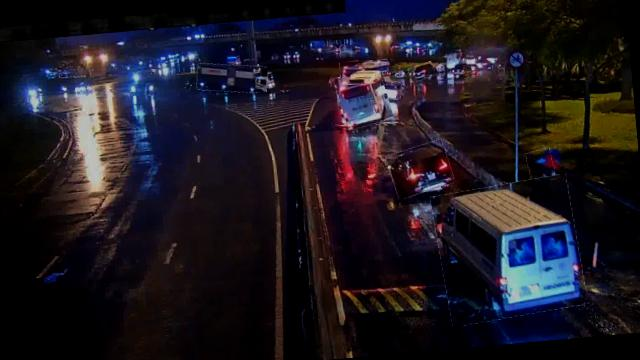Bike: (526, 149, 558, 196)
Bus: (432, 176, 586, 324), (334, 67, 392, 129), (340, 58, 394, 87)
Car: (387, 141, 454, 197), (377, 80, 402, 102), (409, 62, 435, 81)
Truck: (197, 60, 270, 96)
